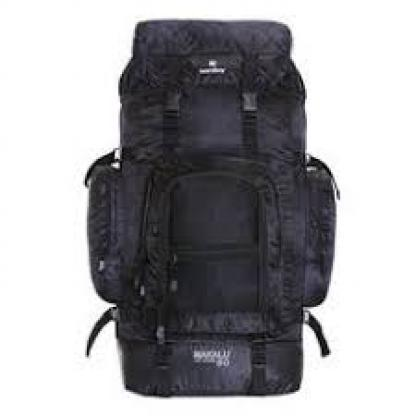morral: (68, 7, 364, 402)
